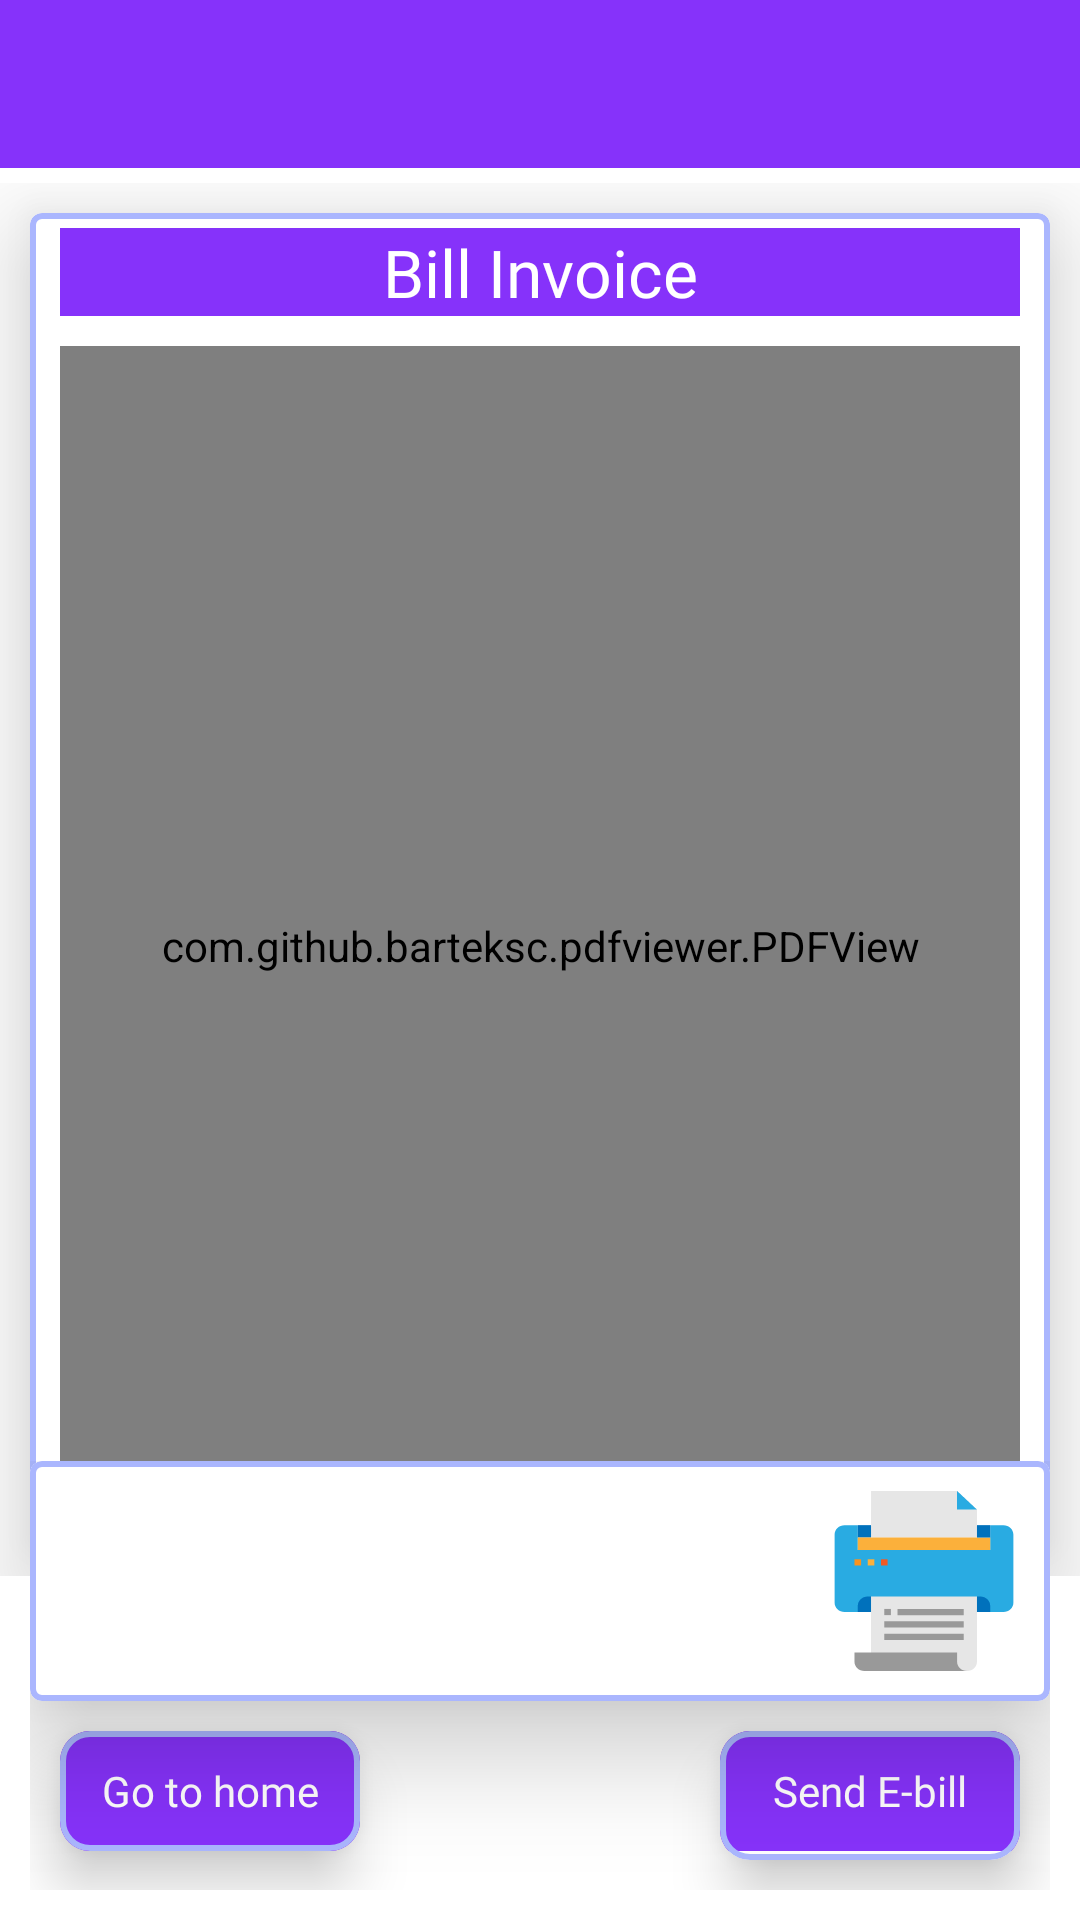

Screen size 1080x1920. Icon name, then its box in pixels as bbox=[x1, y1, x2, y2]:
printer: bbox=[834, 1491, 1014, 1671]
